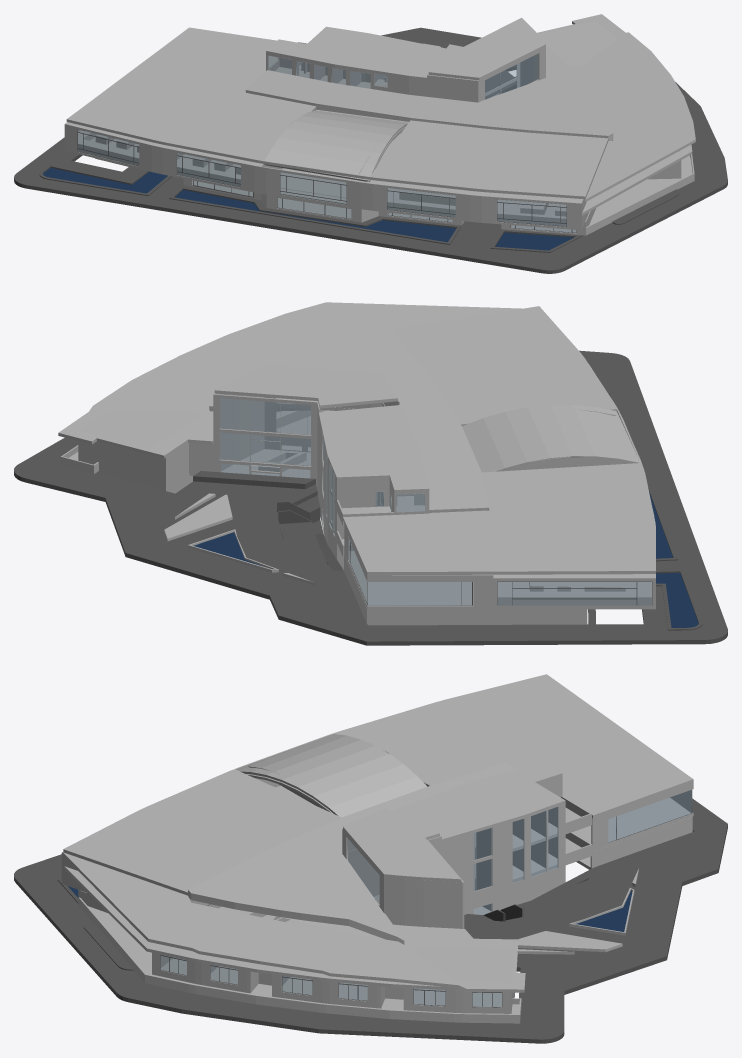
Rendered from archi.glb.
3 renders of one model, top to bottom at view 1: azimuth 30°, elevation 25°; view 2: azimuth 150°, elevation 25°; view 3: azimuth 270°, elevation 25°, orthographic. The views are drawn at different scales.
Parts seen in each view (by area): view 1: Object145, Object488, Object063, Object141, Object125, Layer:0, Object152, Object146, Object133, Object168, Object473, Object123 (+11 smaller); view 2: Object488, Object145, Object141, Object133, Object063, Layer:0, Object146, Object123, Object156, Object126, Object153, Object168 (+13 smaller); view 3: Object145, Object488, Object141, Layer:0, Object063, Object133, Object146, Object123, Object124, Object126, Object161, Object127 (+10 smaller).
Part boxes in pixels (left/top/right/bottom): Object145: left=66, top=27, right=608, bottom=199; Object488: left=14, top=27, right=727, bottom=273; Object063: left=245, top=66, right=613, bottom=140; Object141: left=537, top=14, right=695, bottom=201; Object125: left=64, top=122, right=588, bottom=230; Layer:0: left=266, top=26, right=445, bottom=110; Object152: left=78, top=130, right=566, bottom=225; Object146: left=264, top=109, right=408, bottom=176; Object133: left=427, top=17, right=545, bottom=102; Object168: left=78, top=130, right=566, bottom=225; Object473: left=43, top=168, right=573, bottom=250; Object123: left=538, top=21, right=681, bottom=179; Object488: left=14, top=350, right=727, bottom=645; Object145: left=343, top=306, right=655, bottom=575; Object141: left=58, top=302, right=521, bottom=458; Object133: left=213, top=364, right=399, bottom=498; Object063: left=209, top=326, right=488, bottom=512; Layer:0: left=318, top=405, right=429, bottom=570; Object146: left=462, top=405, right=640, bottom=472; Object123: left=78, top=410, right=326, bottom=488; Object156: left=220, top=398, right=310, bottom=478; Object126: left=344, top=524, right=493, bottom=609; Object153: left=498, top=582, right=651, bottom=604; Object168: left=497, top=582, right=651, bottom=605; Object145: left=63, top=674, right=693, bottom=895; Object488: left=14, top=798, right=727, bottom=1043; Object141: left=62, top=852, right=525, bottom=992; Layer:0: left=392, top=761, right=592, bottom=914; Object063: left=188, top=762, right=516, bottom=944; Object133: left=342, top=808, right=464, bottom=928; Object146: left=238, top=734, right=427, bottom=817; Object123: left=152, top=929, right=515, bottom=1013; Object124: left=78, top=903, right=521, bottom=1023; Object126: left=572, top=782, right=693, bottom=851; Object161: left=474, top=807, right=557, bottom=914; Object127: left=64, top=866, right=462, bottom=990.
Bounding box in the file's own units: 107 × 15.04 × 94.03.
